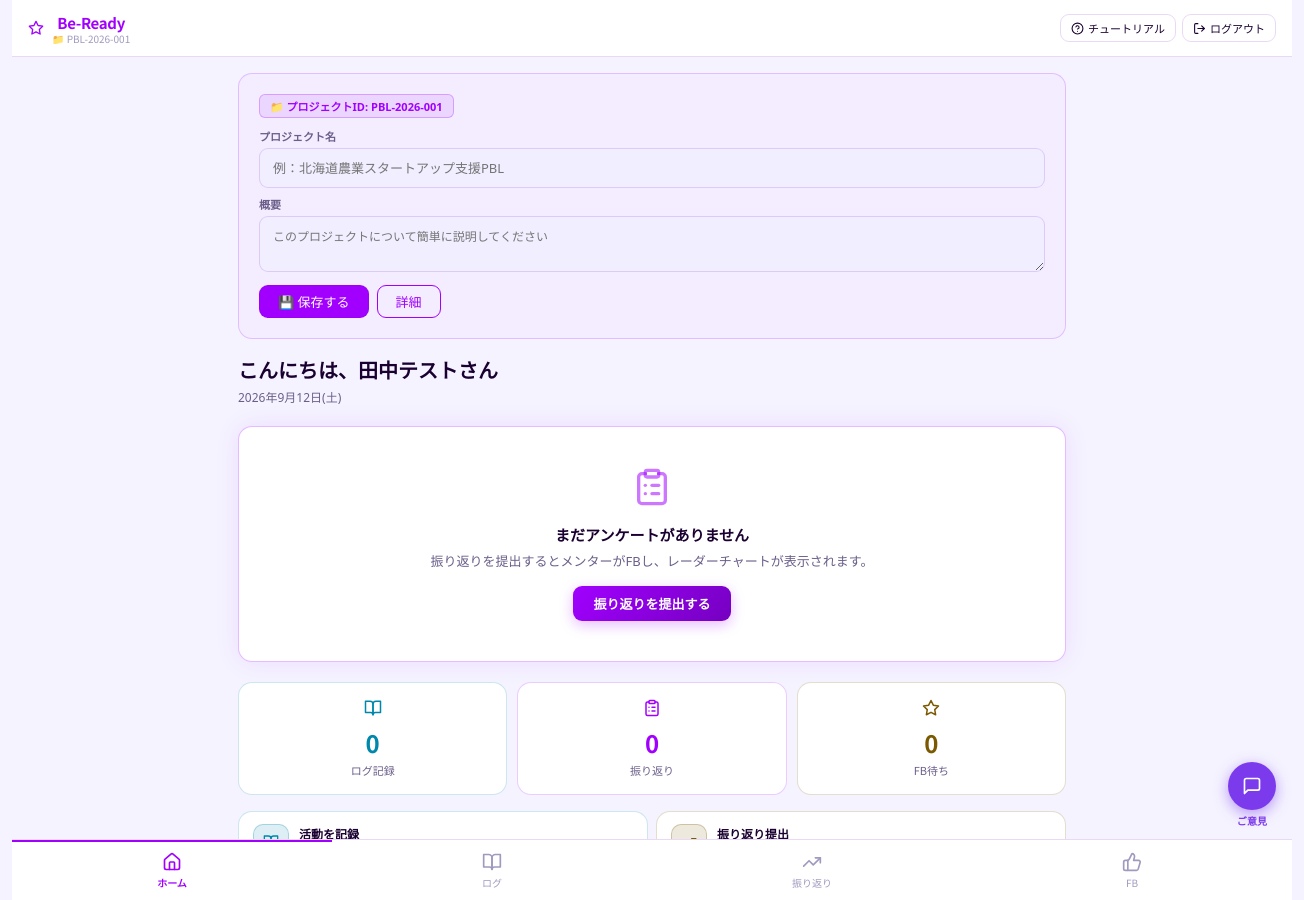
Test case: App - 学生: ホーム画面 › ログアウトボタンをクリックするとログイン画面に戻る
The image size is (1304, 900).
# 状態更新を act でラップ
Click the button "ログアウト" at (1229, 28), box [1182,14,1276,42]
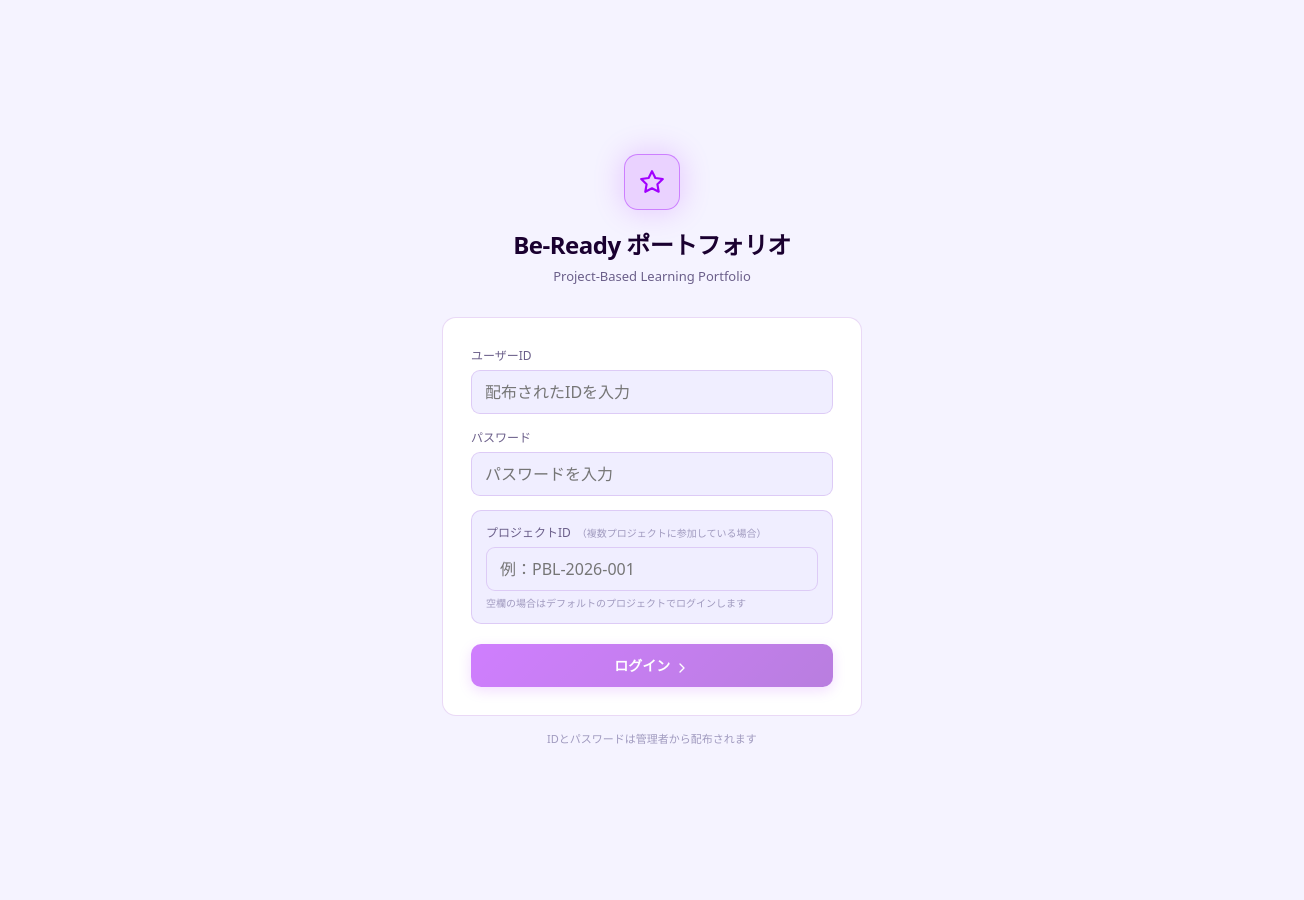
Result: the heading "Be-Ready ポートフォリオ" is shown at [513,228,791,261]
